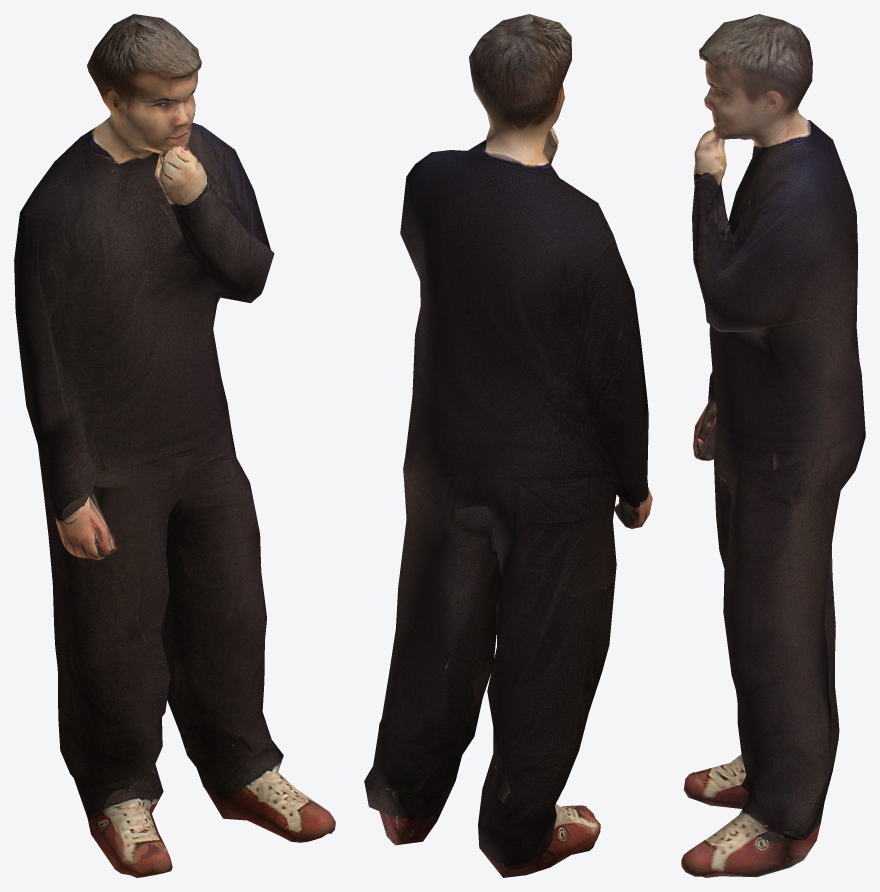
The model's file is Person_3.obj.
The picture shows the model from 3 angles, left to right: view 1: azimuth 30°, elevation 25°; view 2: azimuth 150°, elevation 25°; view 3: azimuth 270°, elevation 25°; orthographic projection. The views are drawn at different scales.
Visible parts, largest first — view 1: Person_3; view 2: Person_3; view 3: Person_3.
Boxes of the visible parts, left/top/right/bottom form: Person_3: left=14, top=14, right=335, bottom=877; Person_3: left=364, top=14, right=652, bottom=877; Person_3: left=681, top=14, right=865, bottom=877.
Size of the model in its own units: 0.5813 by 1.7 by 0.3588.
1 material, 1 textured.
